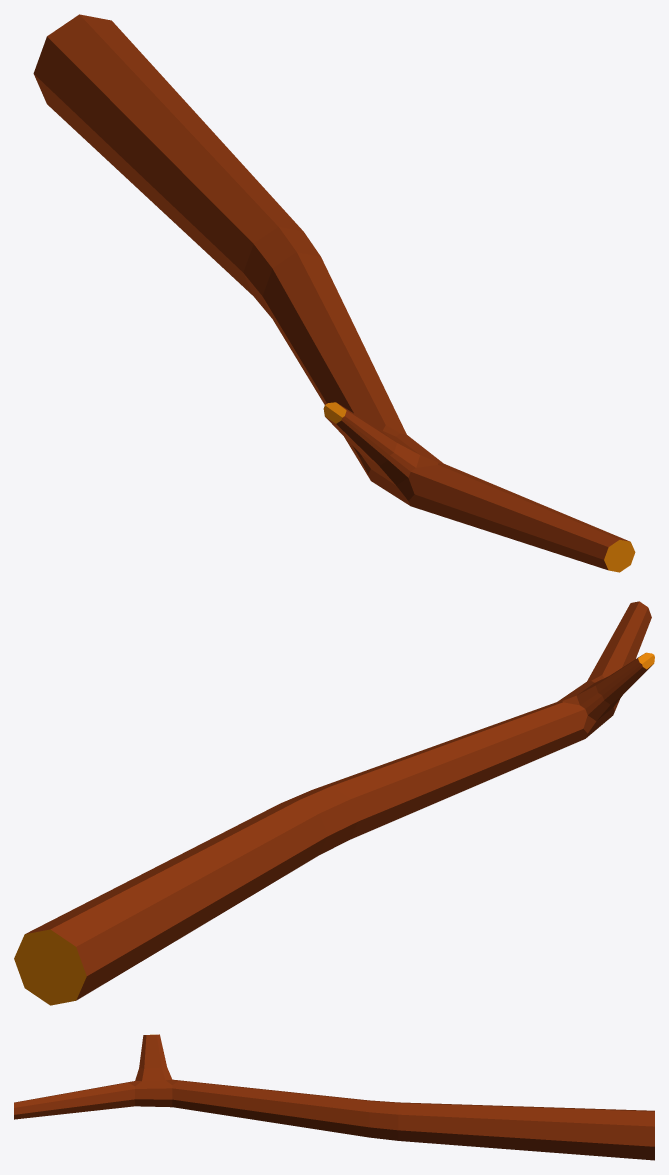
File: Stick_11.fbx
3 views of the same model, one above another, from view 1: azimuth 30°, elevation 25°; view 2: azimuth 150°, elevation 25°; view 3: azimuth 270°, elevation 25° (orthographic). The views are drawn at different scales.
Parts seen in each view (by area): view 1: Circle.022; view 2: Circle.022; view 3: Circle.022.
Part boxes in pixels (x1,y1,x2,y2): Circle.022: (33, 14, 635, 572); Circle.022: (14, 601, 654, 1005); Circle.022: (14, 1034, 654, 1160).
Size of the model in its own units: 11.09 by 4.68 by 41.23.
